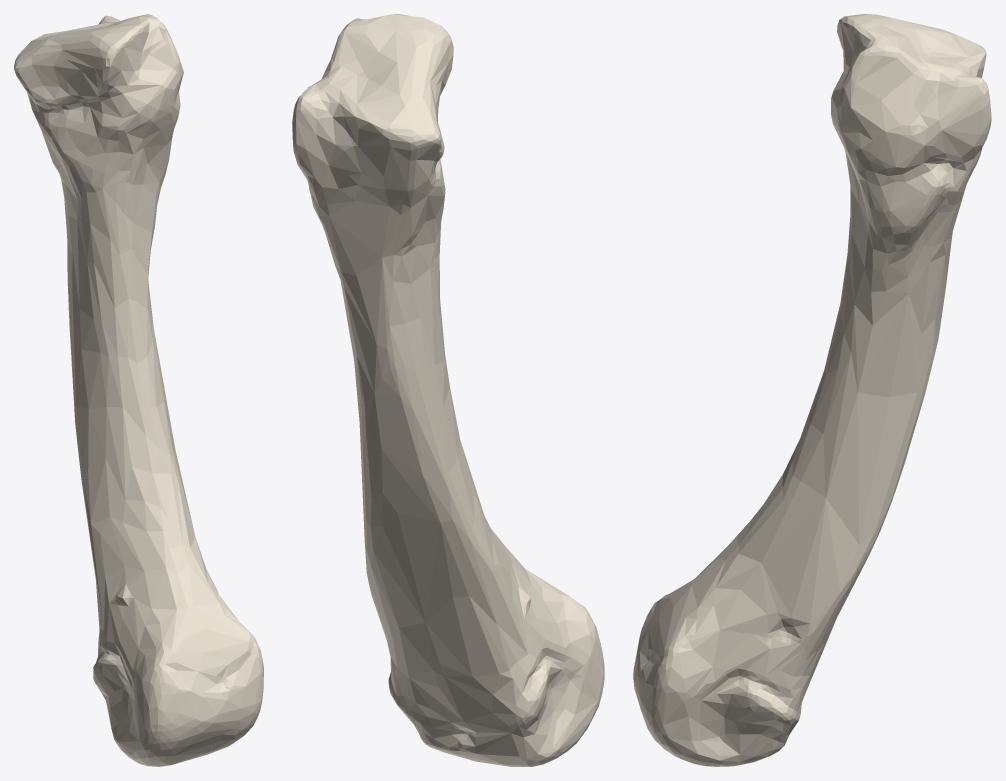
The model's file is left_metacarpal_4.glb.
3 views of the same model, side by side, from view 1: azimuth 30°, elevation 25°; view 2: azimuth 150°, elevation 25°; view 3: azimuth 270°, elevation 25° (orthographic). The views are drawn at different scales.
Visible parts, largest first — view 1: left_metacarpal_4; view 2: left_metacarpal_4; view 3: left_metacarpal_4.
Part boxes in pixels (x1,y1,x2,y2): left_metacarpal_4: [14, 14, 263, 766]; left_metacarpal_4: [292, 14, 604, 766]; left_metacarpal_4: [633, 14, 991, 766].
Size of the model in its own units: 0.0127 by 0.0601 by 0.0263.
